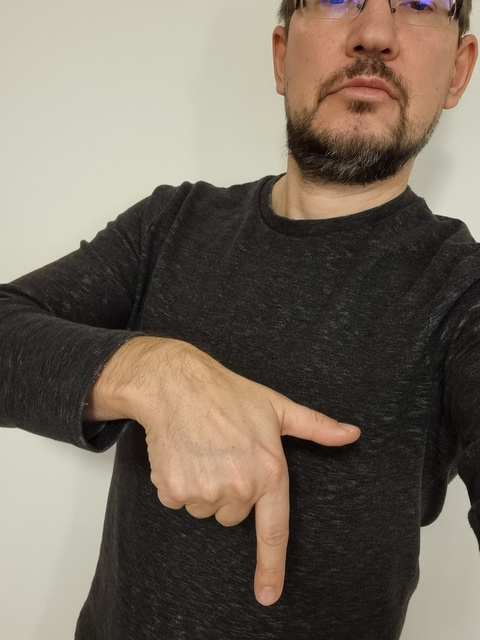GestDown: (158, 399, 361, 606)
